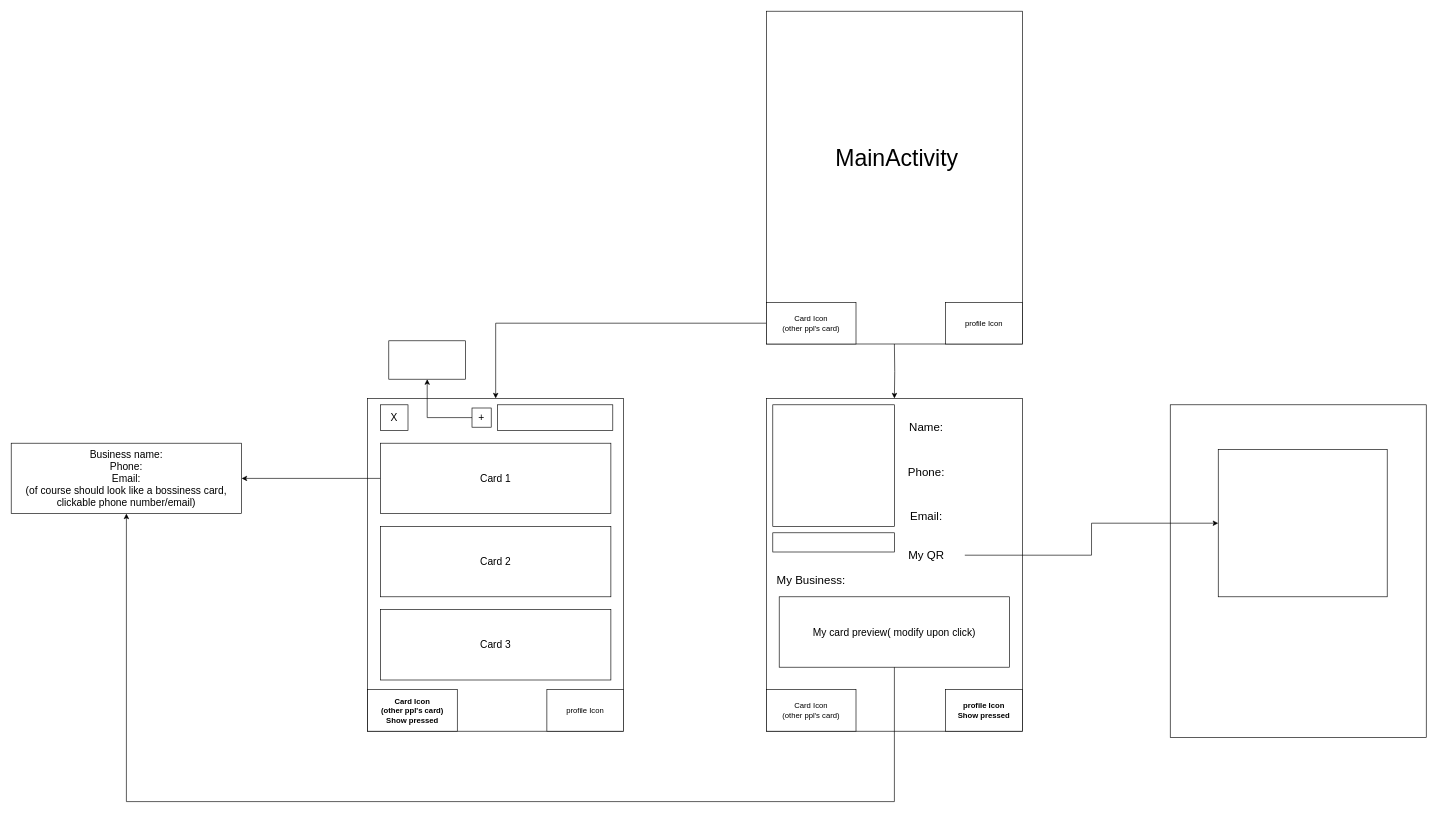
Some shapes in this 1437 by 818 pixel diagram are drawn without their labels. Each missing label, with the centre of its shape:
"Delete profile (show warring upon click)" goes at point (833, 542).
"opens Camera" goes at point (427, 359).
"Picture of the user" goes at point (833, 465).
"QR Code" goes at point (1302, 523).
"Search bar" goes at point (555, 417).
